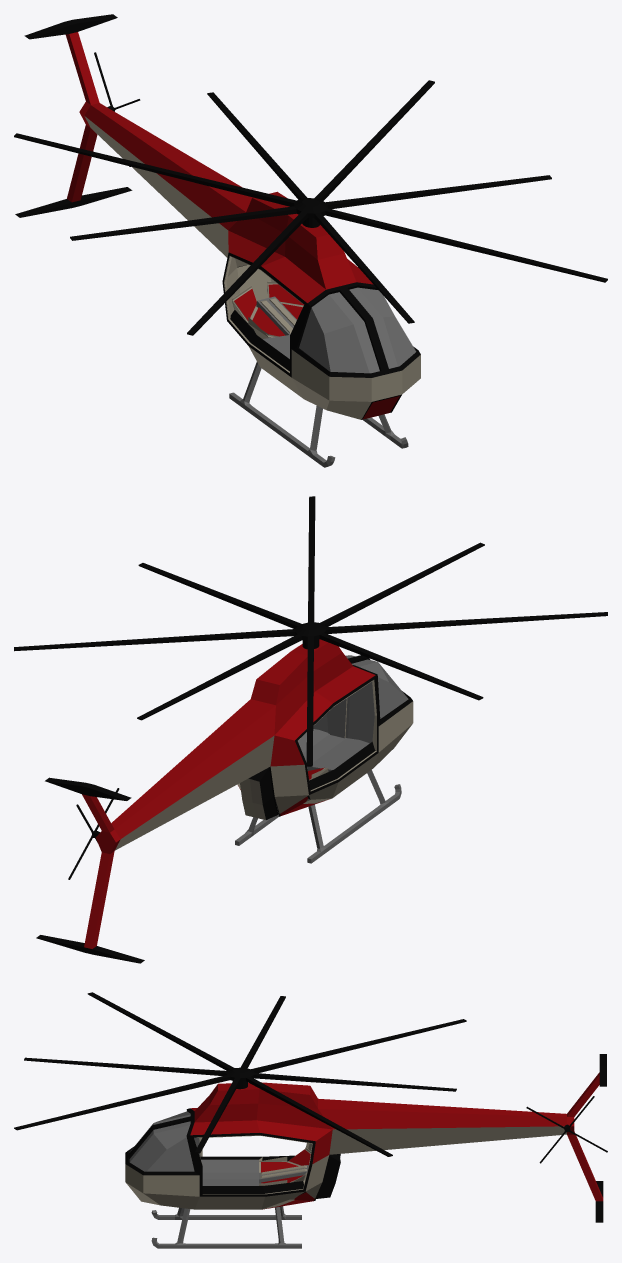
File: Helicoptero.fbx
The picture shows the model from 3 angles, top to bottom: view 1: azimuth 30°, elevation 25°; view 2: azimuth 150°, elevation 25°; view 3: azimuth 270°, elevation 25°; orthographic projection. The views are drawn at different scales.
Parts seen in each view (by area): view 1: Cabina, Helices1, Base; view 2: Cabina, Helices1, Base; view 3: Cabina, Helices1, Base, Helices2.
Part boxes in pixels (bbox=[...]): Cabina: bbox=[15, 14, 420, 419]; Helices1: bbox=[14, 80, 607, 335]; Base: bbox=[229, 362, 408, 467]; Cabina: bbox=[36, 639, 413, 963]; Helices1: bbox=[14, 496, 607, 766]; Base: bbox=[235, 770, 401, 863]; Cabina: bbox=[125, 1054, 606, 1222]; Helices1: bbox=[14, 992, 466, 1156]; Base: bbox=[151, 1206, 301, 1248]; Helices2: bbox=[526, 1096, 607, 1163].
Bounding box in the file's own units: 2206 × 1045 × 3381.
